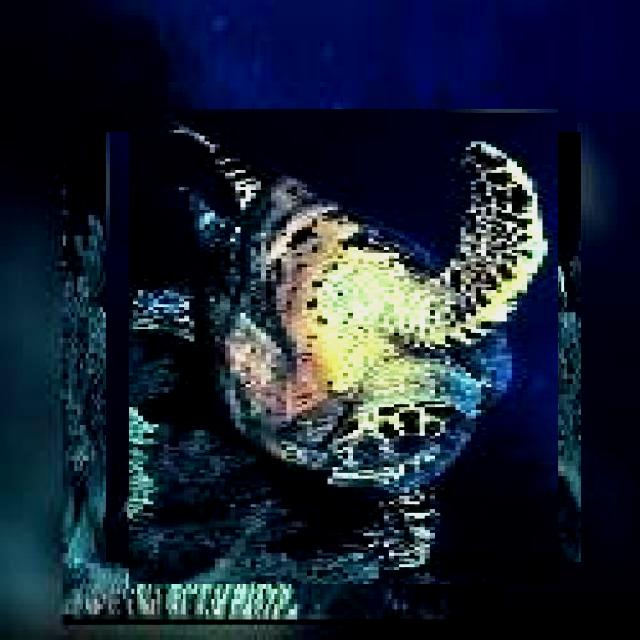Sea turtle: (117, 121, 570, 573)
